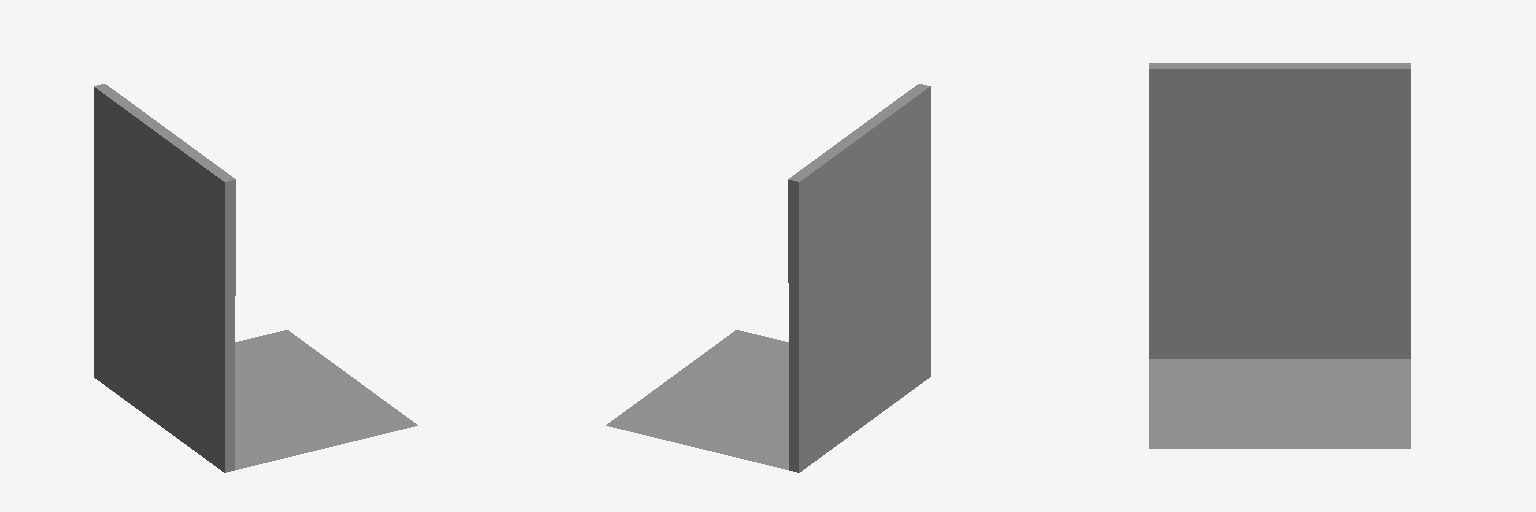
The model's file is zid.obj.
3 views of the same model, side by side, from view 1: azimuth 30°, elevation 25°; view 2: azimuth 150°, elevation 25°; view 3: azimuth 270°, elevation 25° (orthographic).
Parts seen in each view (by area): view 1: Cube; view 2: Cube; view 3: Cube.
Part boxes in pixels (x1,y1,x2,y2): Cube: (94, 84, 417, 472); Cube: (606, 84, 930, 472); Cube: (1149, 63, 1410, 448).
Size of the model in its own units: 4.18 by 5.99 by 4.89.